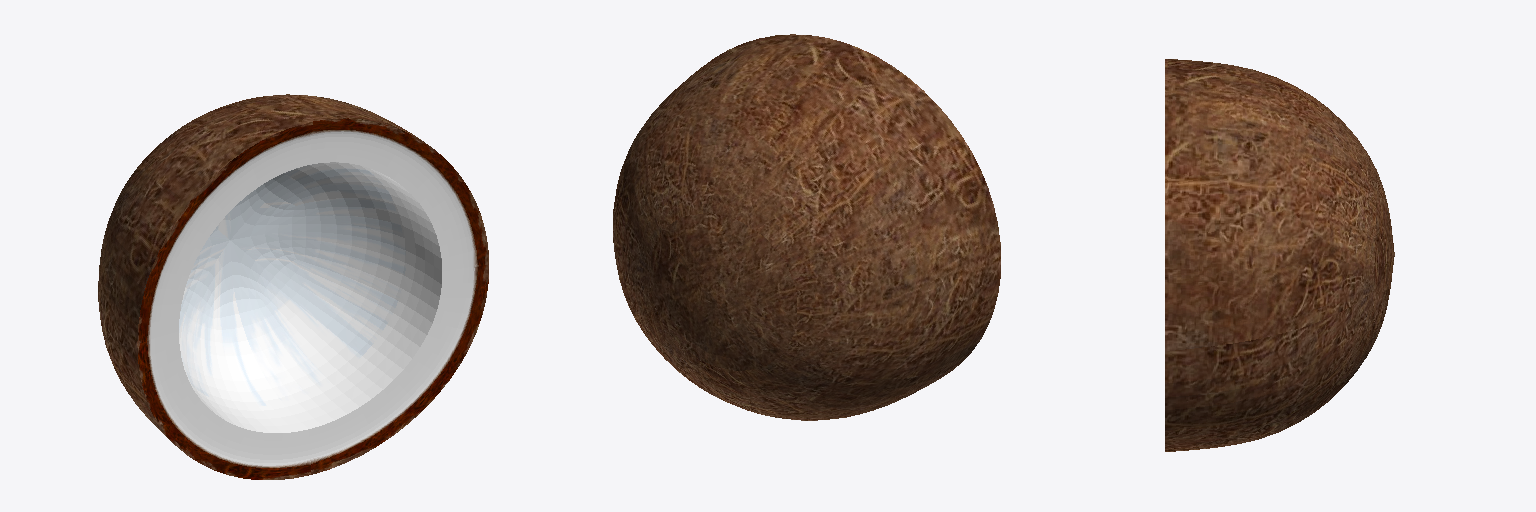
3 renders of one model, left to right at view 1: azimuth 30°, elevation 25°; view 2: azimuth 150°, elevation 25°; view 3: azimuth 270°, elevation 25°, orthographic.
Visible parts, largest first — view 1: 10175_Coconut_Half_v01; view 2: 10175_Coconut_Half_v01; view 3: 10175_Coconut_Half_v01.
Boxes of the visible parts, box(x1,y1,x2,y2) form: 10175_Coconut_Half_v01: box(98, 94, 488, 479); 10175_Coconut_Half_v01: box(613, 34, 1000, 420); 10175_Coconut_Half_v01: box(1165, 59, 1394, 451).
Bounding box in the file's own units: 175 × 168 × 98.98.
1 materials, 1 textured.